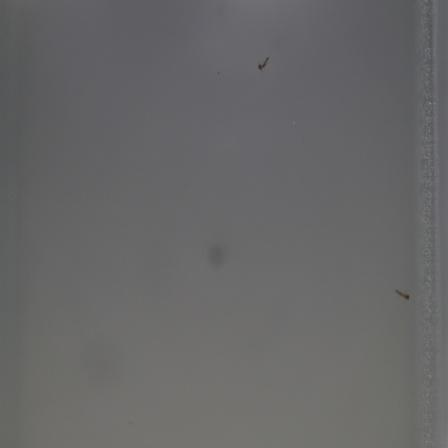Jentik-Nyamuk: (253, 52, 273, 77), (392, 286, 411, 305)
